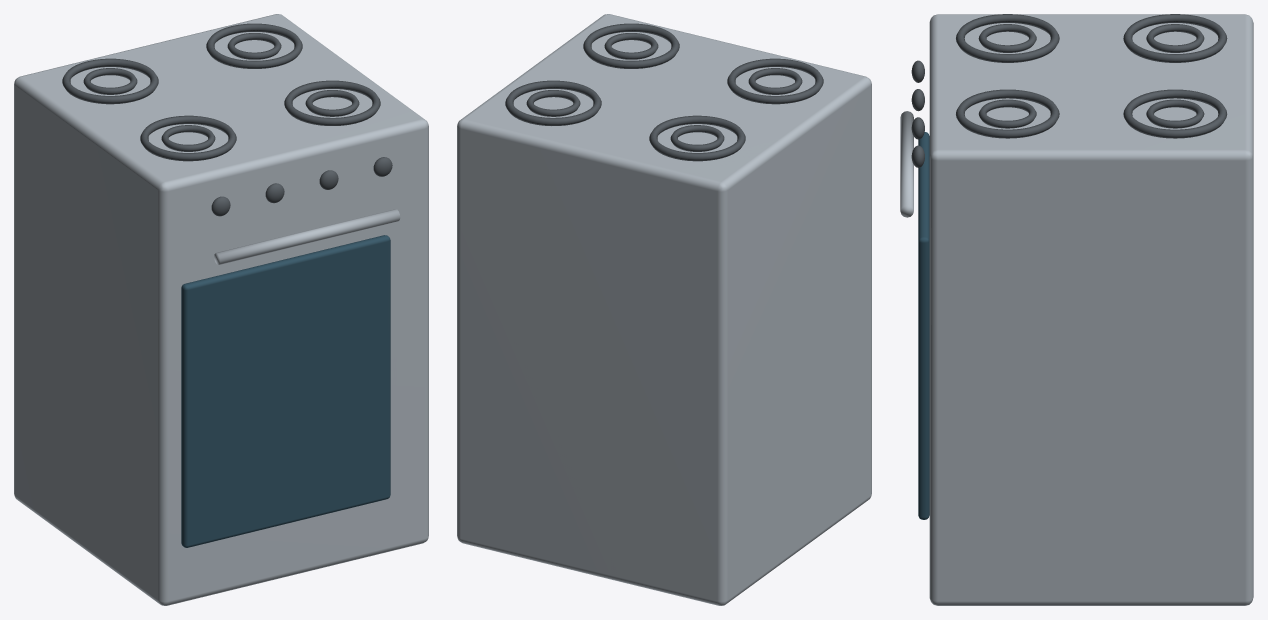
File: atelier-stove.glb
3 renders of one model, left to right at view 1: azimuth 30°, elevation 25°; view 2: azimuth 150°, elevation 25°; view 3: azimuth 270°, elevation 25°, orthographic. The views are drawn at different scales.
Parts seen in each view (by area): view 1: steel.005, screen, metal.116; view 2: steel.005, metal.116; view 3: steel.005, metal.116, screen.
Boxes of the visible parts, x1,y1,x2,y2 form: steel.005: (14,14,428,605); screen: (181,235,390,547); metal.116: (62,23,392,216); steel.005: (457,14,871,605); metal.116: (505,23,823,161); steel.005: (900,14,1253,605); metal.116: (911,14,1227,167); screen: (918,132,929,519).
Size of the model in its own units: 0.6 by 0.9189 by 0.632.
